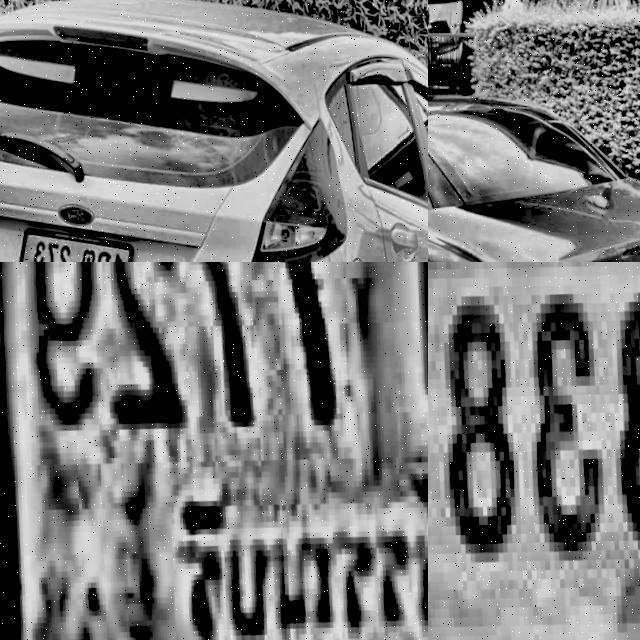license-plate: (0, 262, 428, 640), (428, 262, 640, 640), (0, 219, 136, 262)
